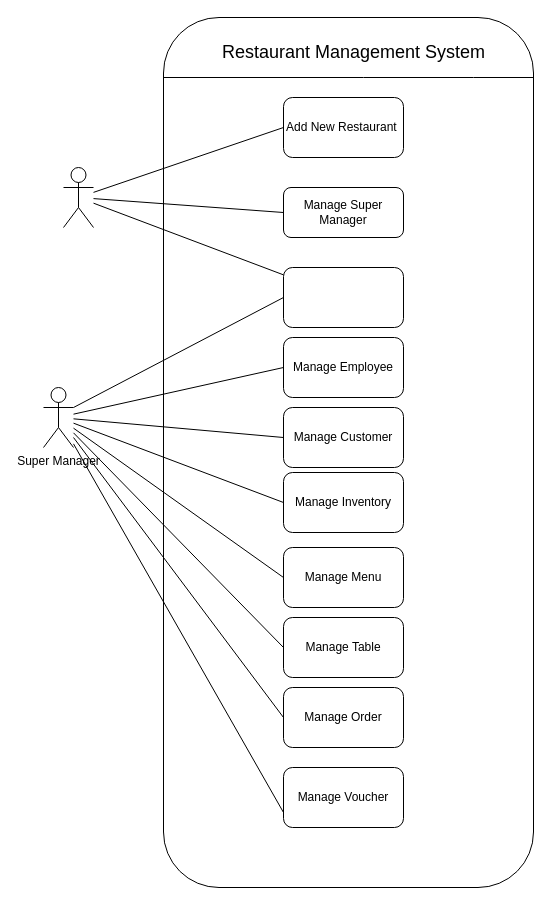
Some shapes in this 552 by 905 pixel diagram are drawn without their labels. The centre of each missing label's shape, as x and y in pixels:
"Business report" goes at (343,297).
"super admin" goes at (78,197).
